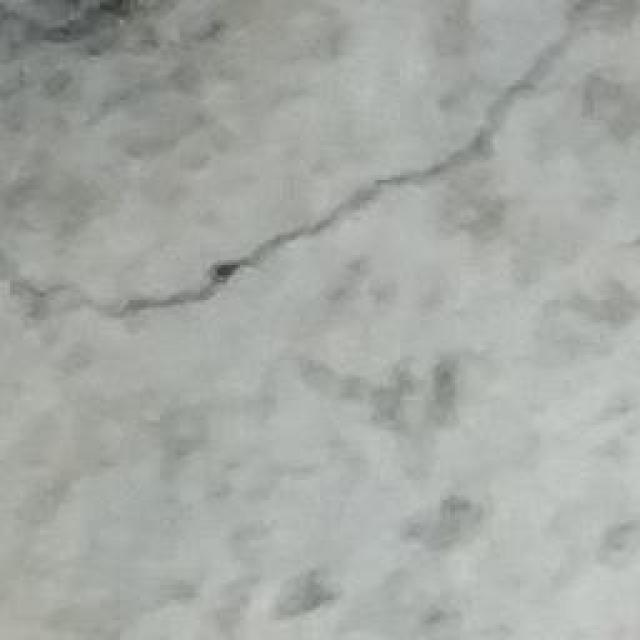Diagonal: (1, 0, 640, 322)
